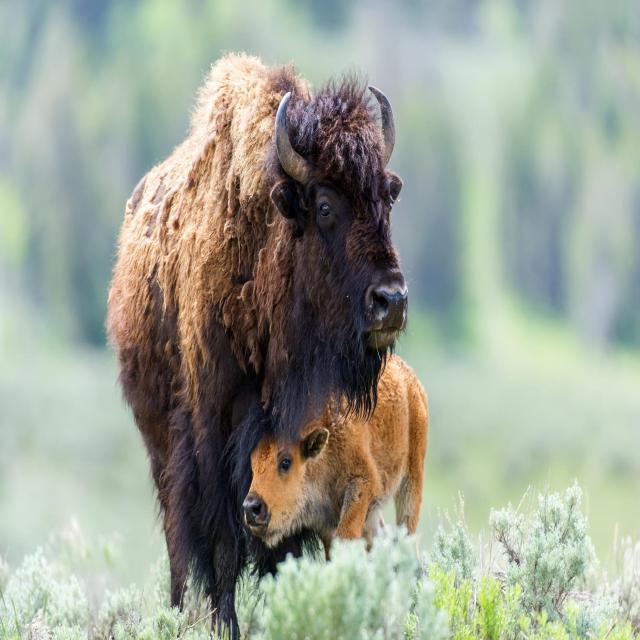Bison: (89, 40, 419, 610), (222, 339, 442, 573)
